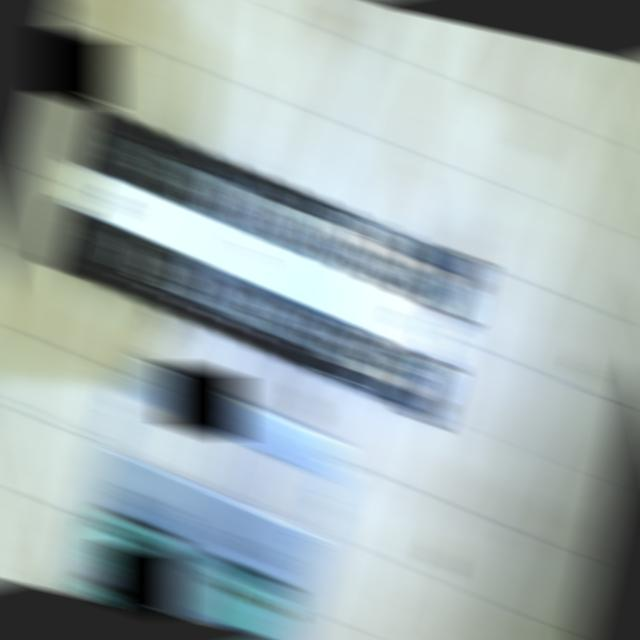Phillips_Block: (18, 96, 500, 425)
Terminal_2: (80, 511, 184, 595)
